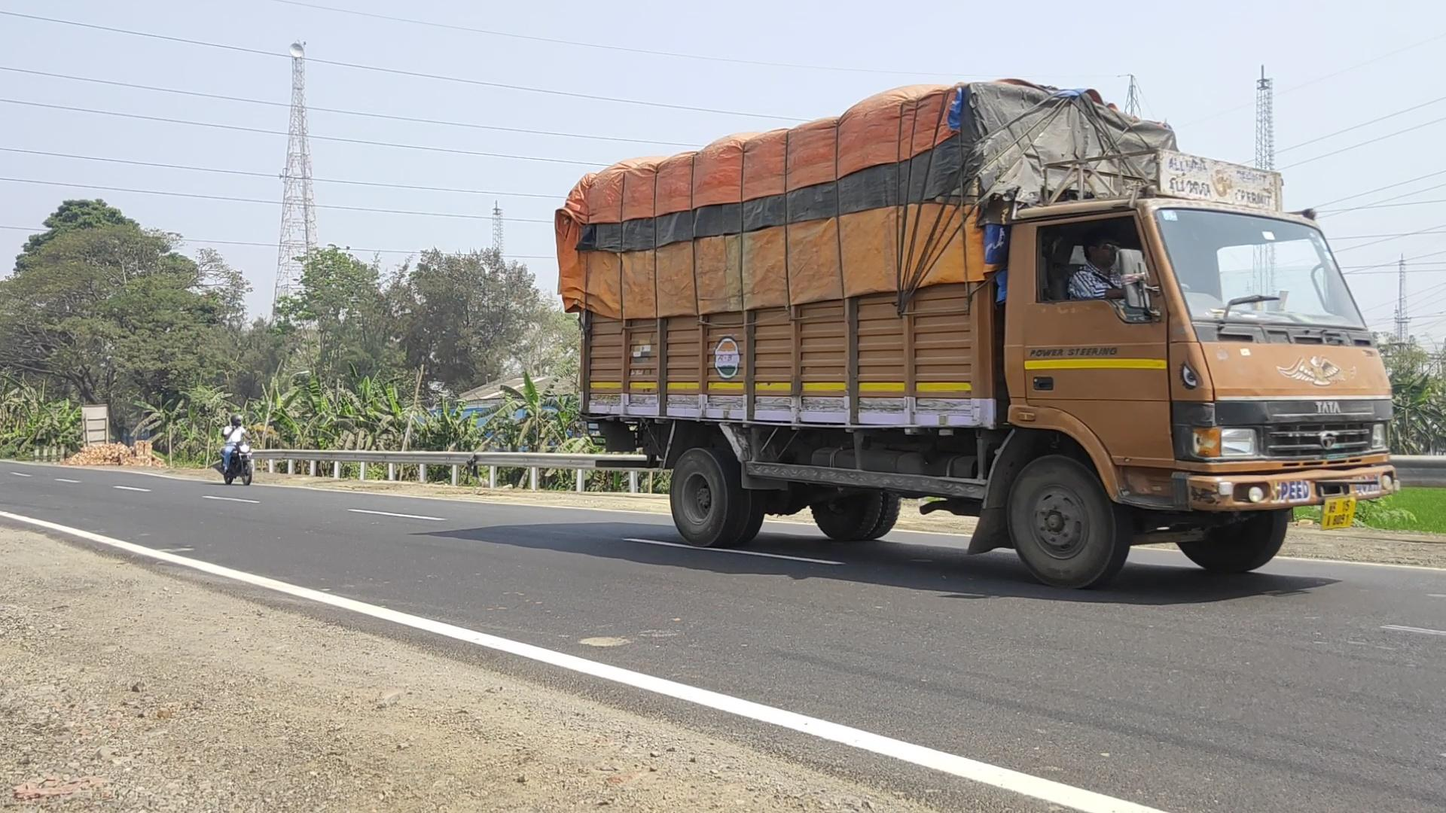bike: (214, 414, 255, 486)
truck: (555, 78, 1400, 591)
